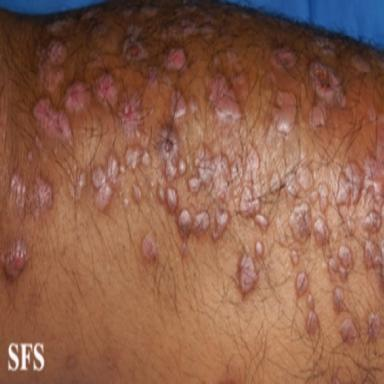Epidermolysis-Bullosa-Pruriginosa: (94, 70, 141, 138), (209, 48, 250, 123), (309, 61, 345, 130), (188, 144, 230, 201), (92, 153, 125, 210), (10, 174, 53, 217), (158, 128, 187, 181), (34, 100, 71, 140), (39, 41, 66, 92), (336, 162, 363, 205), (87, 24, 119, 59), (271, 90, 296, 134), (161, 21, 213, 40), (2, 239, 26, 280), (328, 245, 353, 282), (289, 203, 311, 242), (65, 81, 91, 114), (363, 239, 384, 279), (286, 166, 313, 197), (239, 254, 257, 294), (361, 175, 384, 206), (240, 187, 260, 217), (271, 46, 296, 69), (306, 294, 319, 336), (212, 209, 229, 241), (310, 183, 328, 211), (123, 39, 146, 60), (141, 233, 157, 262), (313, 217, 329, 246), (165, 49, 186, 70), (313, 37, 335, 56), (192, 211, 210, 234), (46, 19, 70, 36), (340, 319, 356, 344), (364, 211, 382, 233), (177, 209, 191, 237), (171, 92, 186, 118), (352, 54, 371, 73), (368, 312, 380, 342), (295, 272, 308, 298), (126, 148, 141, 169), (333, 286, 344, 312), (276, 218, 286, 245), (167, 187, 178, 211), (270, 173, 281, 193), (255, 214, 268, 230), (140, 7, 157, 19), (132, 183, 142, 203), (147, 66, 157, 86), (346, 217, 356, 235), (157, 183, 165, 203), (77, 171, 85, 191), (290, 249, 299, 266), (189, 97, 198, 114), (141, 151, 151, 166), (255, 241, 264, 256), (149, 179, 155, 189), (124, 197, 129, 207)
